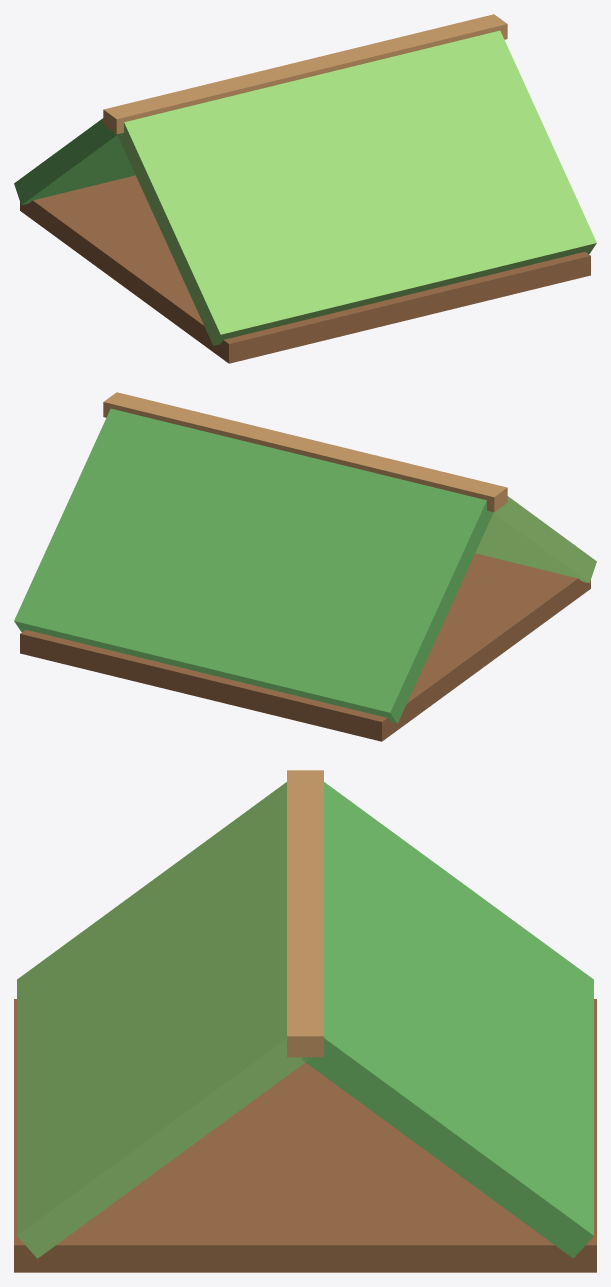
The model's file is roof.glb.
3 views of the same model, one above another, from view 1: azimuth 30°, elevation 25°; view 2: azimuth 150°, elevation 25°; view 3: azimuth 270°, elevation 25° (orthographic). The views are drawn at different scales.
Bounding box in the file's own units: 2.7 × 1.16 × 2.5.
